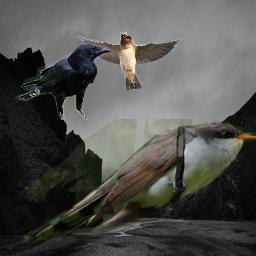Crow: (15, 43, 113, 120)
Cuckoo: (19, 119, 256, 243)
Swallow: (76, 32, 182, 91)
